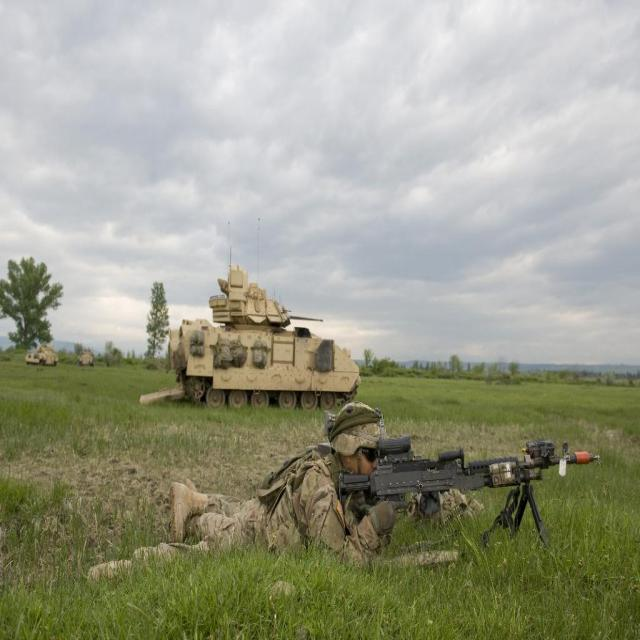tank: (140, 210, 362, 409), (21, 338, 59, 364)
